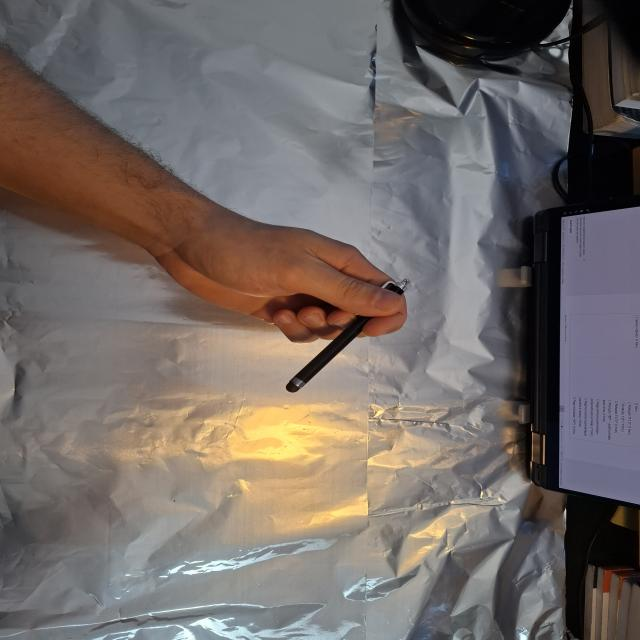glove_off: (150, 211, 413, 345)
